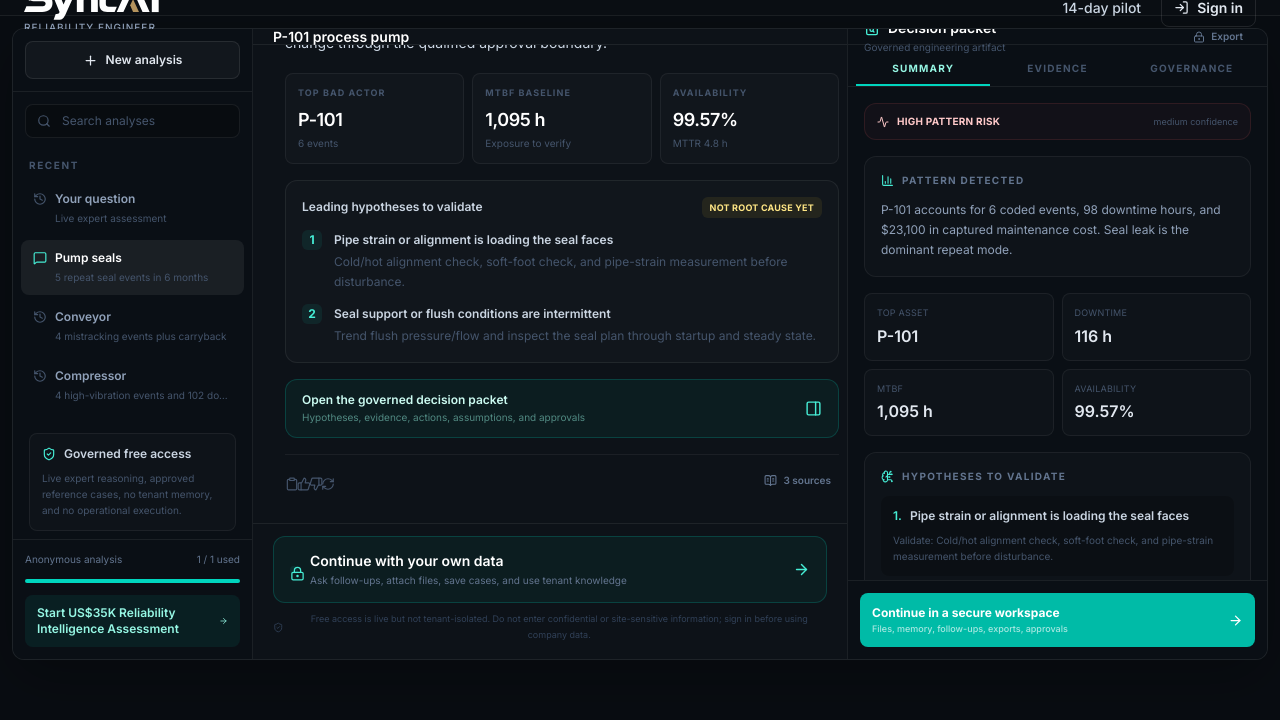
ReliabilityEngineerPage › restores the completed result and gates the next workflow
Later steps or results of the test are not shown.
(page scrolled)
Expected: the text "Not root cause yet" is shown, [702,196,822,218]
Step 1. Click the button "Continue with your own data" → x=407, y=560, box [273,536,827,603]
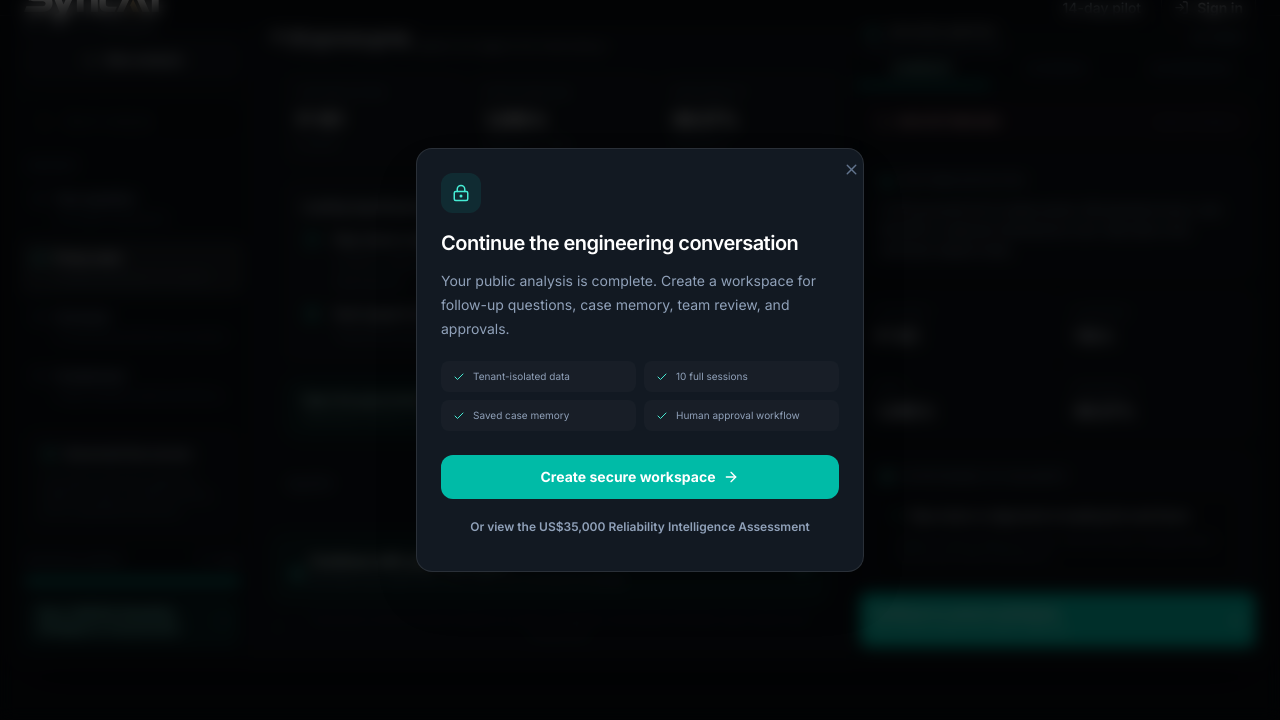
Expected: the dialog "Continue the engineering conversation" is shown, [416,148,864,572]
